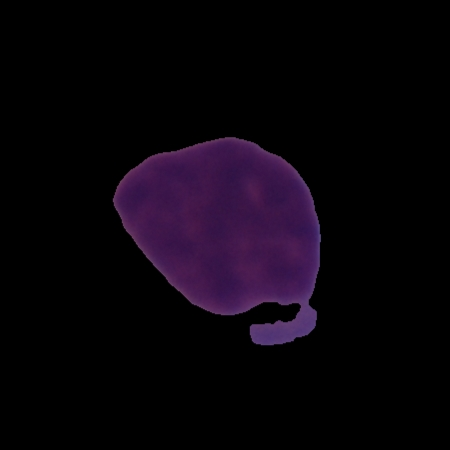ALL: (110, 132, 326, 348)
